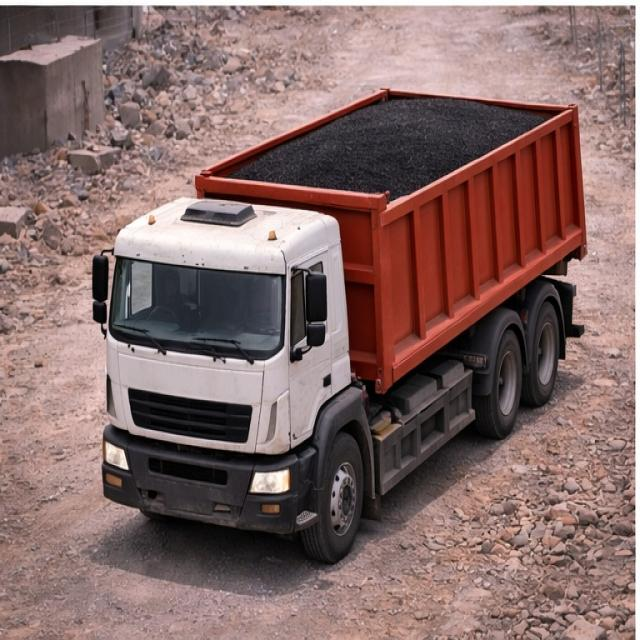trailer: (196, 87, 574, 205)
truck: (64, 73, 590, 543)
